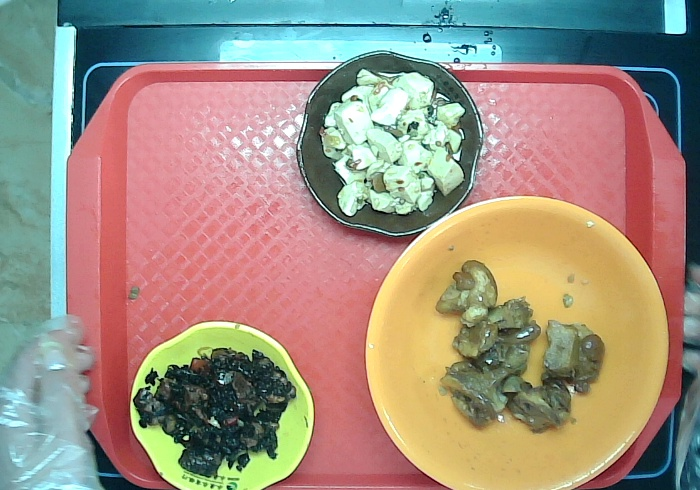YKMZ-Huang_Se_Ao_Bian_Wan: (128, 311, 320, 490)
YKMZ-Ju_Se_Tang_Wan: (355, 188, 673, 490)
YKMZ-Ka_Fei_Ao_Bian_Wan: (290, 45, 493, 243)
